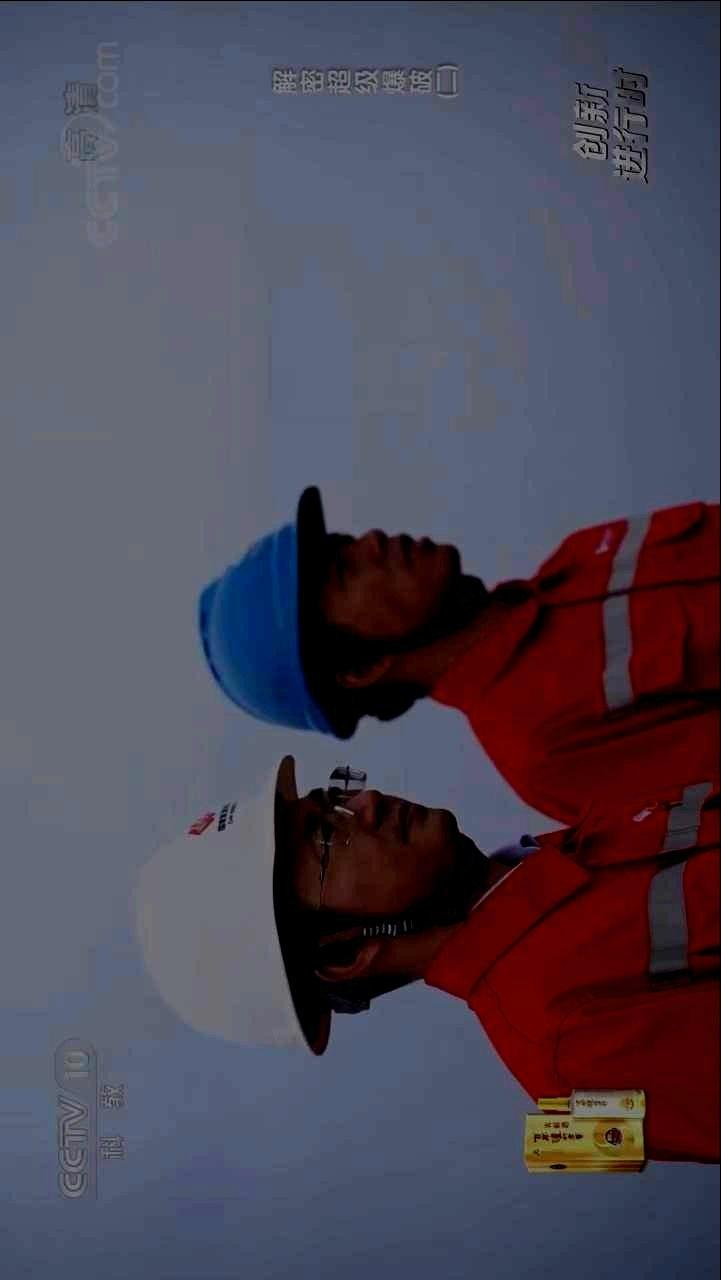helmet: (132, 753, 458, 1057), (194, 483, 462, 742)
